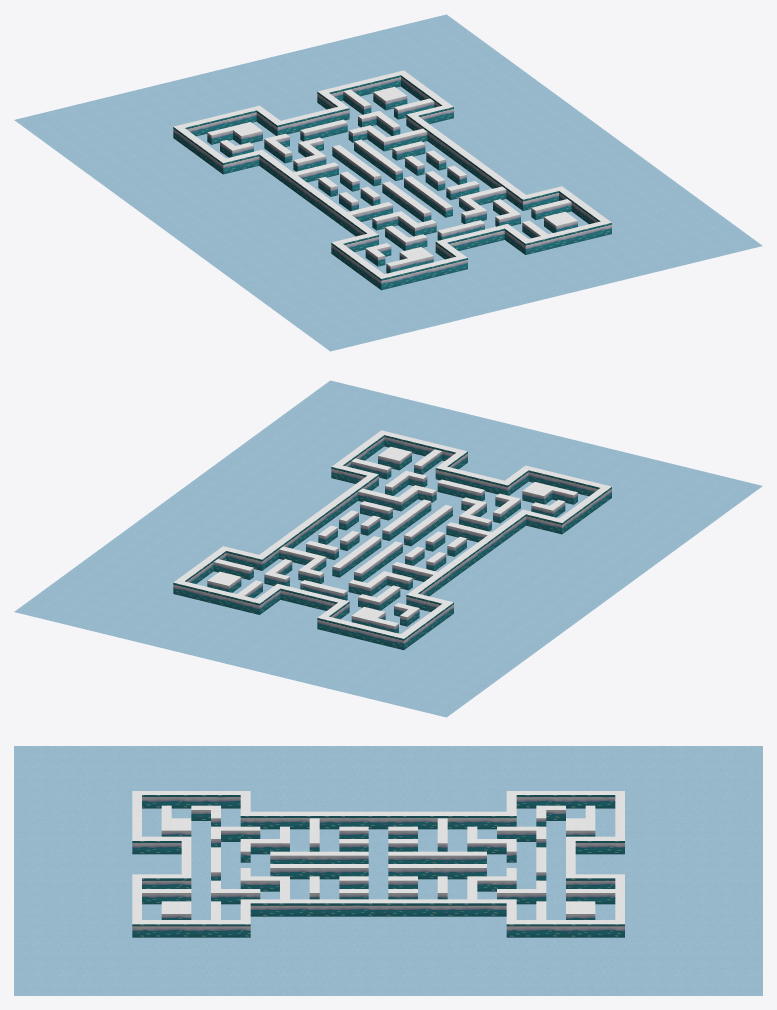
The model's file is maze_2player.glb.
The picture shows the model from 3 angles, top to bottom: view 1: azimuth 30°, elevation 25°; view 2: azimuth 150°, elevation 25°; view 3: azimuth 270°, elevation 25°; orthographic projection. The views are drawn at different scales.
Parts seen in each view (by area): view 1: outer_floor, o28_2, o28_1, maze_floor, o31_1, o31_2, o32_2, o40_1, o32_1, o40_2, o29_1, o42_2 (+3 smaller); view 2: outer_floor, o28_1, o28_2, maze_floor, o31_2, o31_1, o32_1, o40_2, o32_2, o40_1, o29_2, o37_2 (+3 smaller); view 3: outer_floor, maze_floor, o28_2, o28_1, o32_1, o32_2, o31_1, o31_2, o42_1, o42_2, o37_1, o37_2 (+16 smaller).
Boxes of the visible parts, x1,y1,x2,y2 form: outer_floor: [14, 14, 762, 351]; o28_2: [313, 155, 611, 290]; o28_1: [173, 70, 471, 204]; maze_floor: [196, 86, 588, 273]; o31_1: [348, 125, 427, 151]; o31_2: [459, 186, 506, 223]; o32_2: [372, 211, 436, 236]; o40_1: [207, 122, 262, 144]; o32_1: [293, 137, 326, 171]; o40_2: [386, 247, 433, 273]; o29_1: [300, 119, 347, 141]; o42_2: [385, 225, 427, 250]; outer_floor: [14, 380, 762, 717]; o28_1: [173, 515, 471, 650]; o28_2: [314, 430, 611, 564]; maze_floor: [196, 446, 588, 633]; o31_2: [358, 485, 436, 511]; o31_1: [279, 546, 326, 583]; o32_1: [348, 571, 412, 596]; o40_2: [522, 482, 577, 504]; o32_2: [459, 497, 491, 531]; o40_1: [351, 607, 398, 633]; o29_2: [437, 479, 484, 501]; o37_2: [385, 470, 427, 495]; outer_floor: [14, 746, 762, 995]; maze_floor: [142, 808, 615, 919]; o28_2: [132, 791, 378, 937]; o28_1: [378, 791, 624, 937]; o32_1: [467, 826, 516, 862]; o32_2: [240, 826, 289, 862]; o31_1: [467, 868, 516, 899]; o31_2: [240, 868, 289, 899]; o42_1: [497, 826, 546, 847]; o42_2: [211, 826, 260, 847]; o37_1: [497, 880, 546, 904]; o37_2: [211, 880, 260, 904].
Size of the model in its own units: 120 by 3 by 152.
3 materials, 3 textured.
